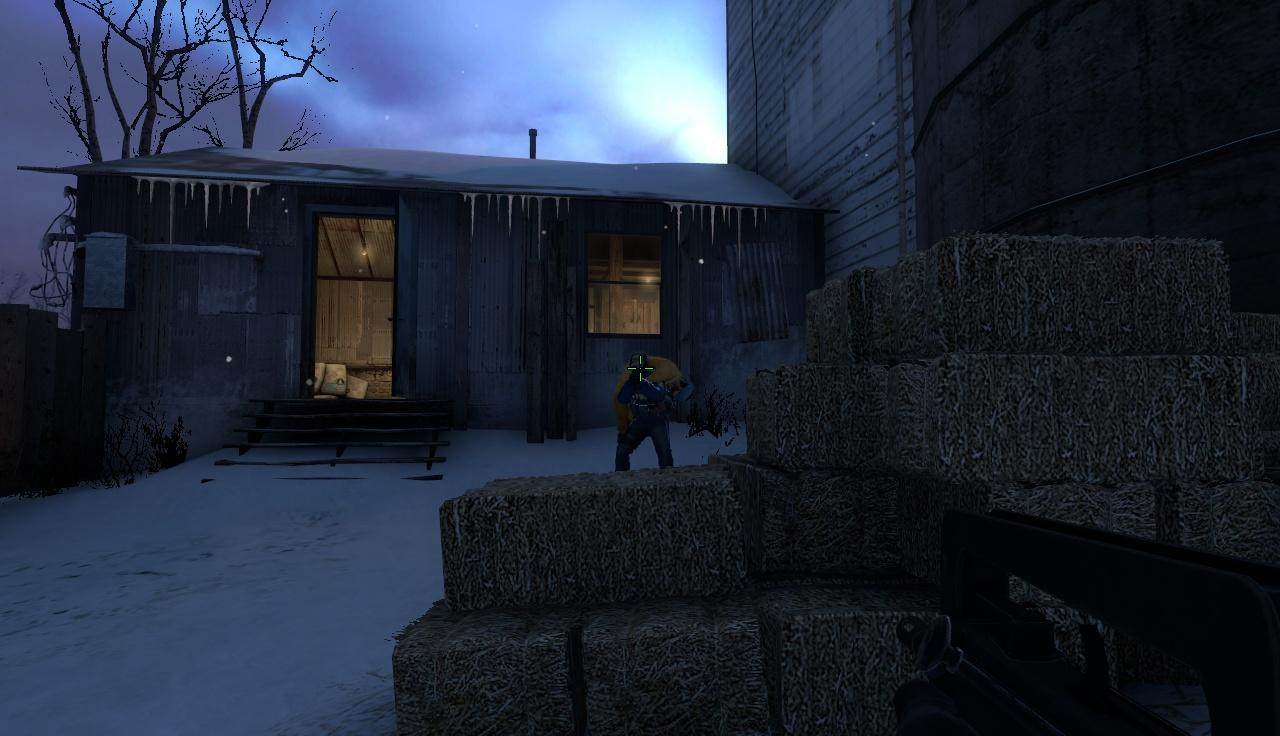ct: (616, 353, 674, 470)
cthead: (628, 355, 648, 380)
rifle: (888, 515, 1280, 736)
